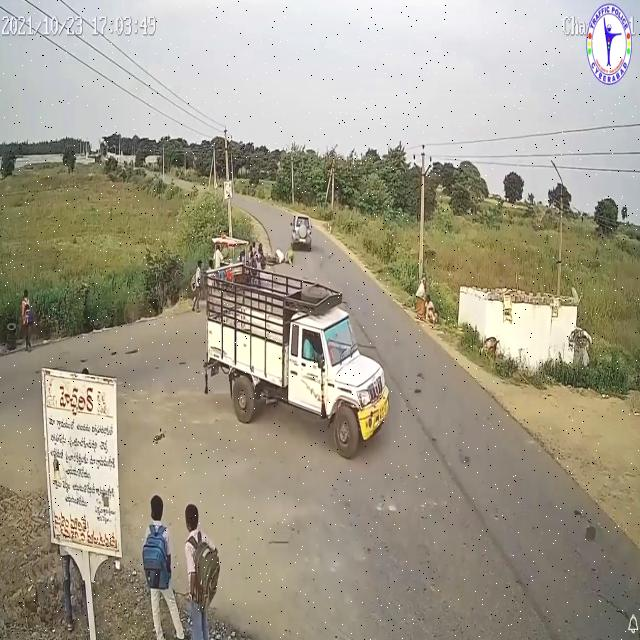accident: (263, 211, 317, 272)
